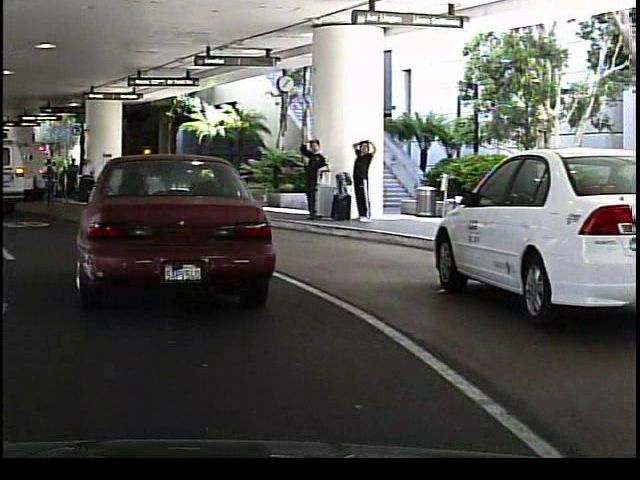person: (295, 133, 326, 219), (346, 135, 375, 225), (331, 150, 353, 218), (182, 153, 203, 196)
